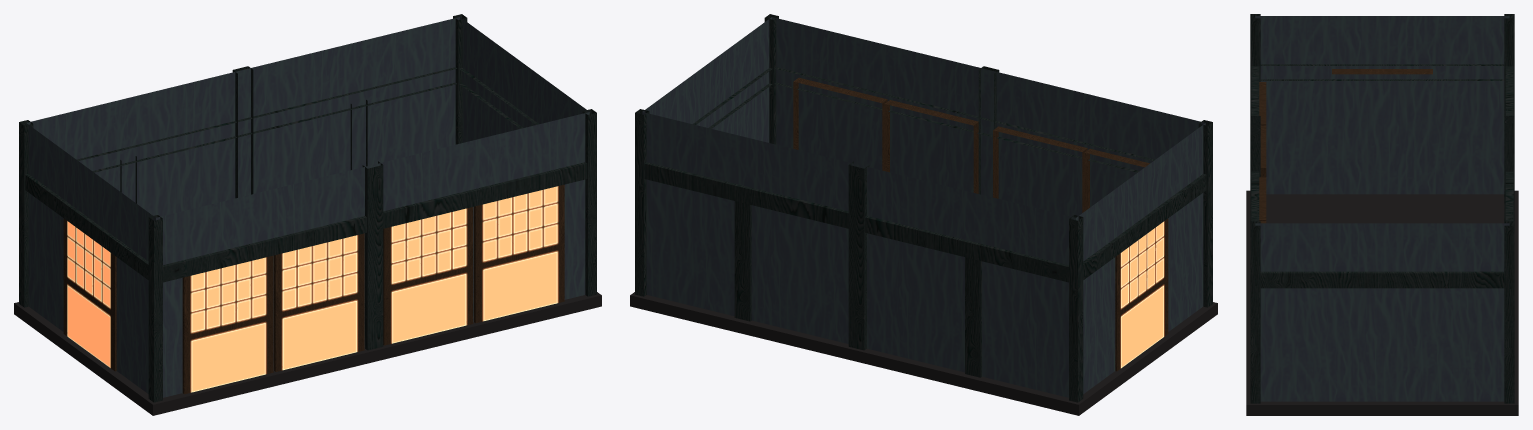
The model's file is S1_Minka_Madoari.fbx.
3 renders of one model, left to right at view 1: azimuth 30°, elevation 25°; view 2: azimuth 150°, elevation 25°; view 3: azimuth 270°, elevation 25°, orthographic. The views are drawn at different scales.
Parts seen in each view (by area): view 1: Base, Mado; view 2: Base, Mado; view 3: Base, Mado.
Part boxes in pixels (left/top/right/bottom): Base: left=14, top=14, right=601, bottom=415; Mado: left=63, top=184, right=564, bottom=394; Base: left=630, top=14, right=1217, bottom=415; Mado: left=793, top=77, right=1168, bottom=371; Base: left=1246, top=14, right=1518, bottom=415; Mado: left=1259, top=69, right=1432, bottom=223.
Size of the model in its own units: 1257 by 516 by 674.
